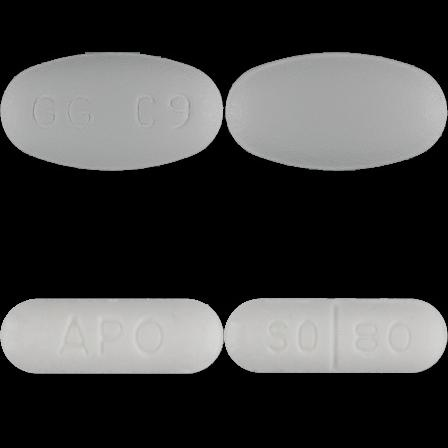68084-651: (0, 0, 224, 224)
